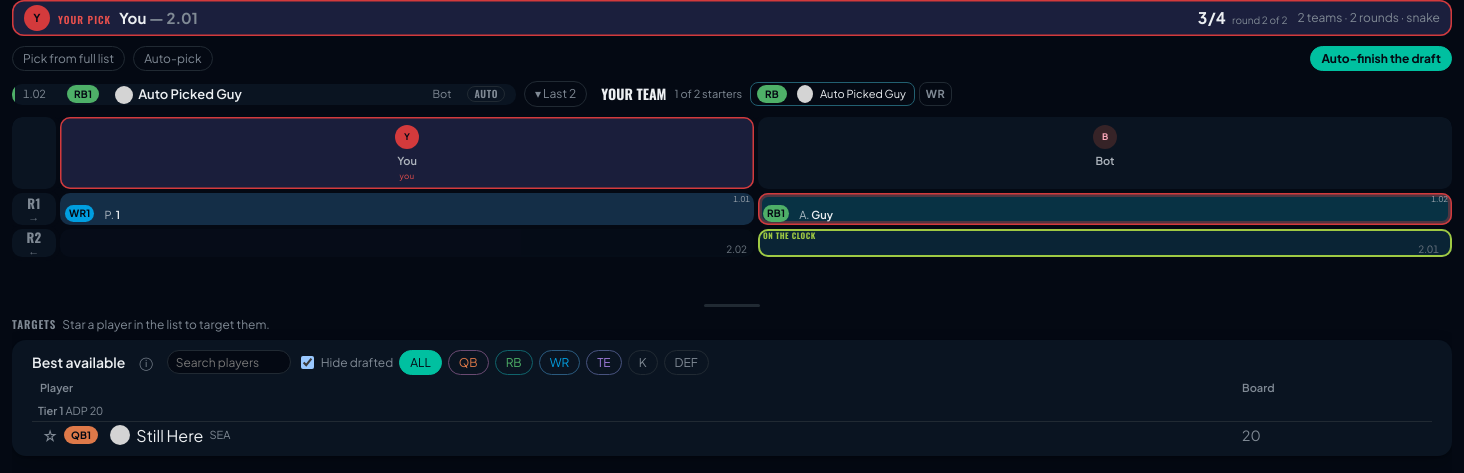
MockDraftView auto controls › hides both controls when an older backend answers 404
Click the button "Auto-pick" at (173, 59), box [133,46,212,71]
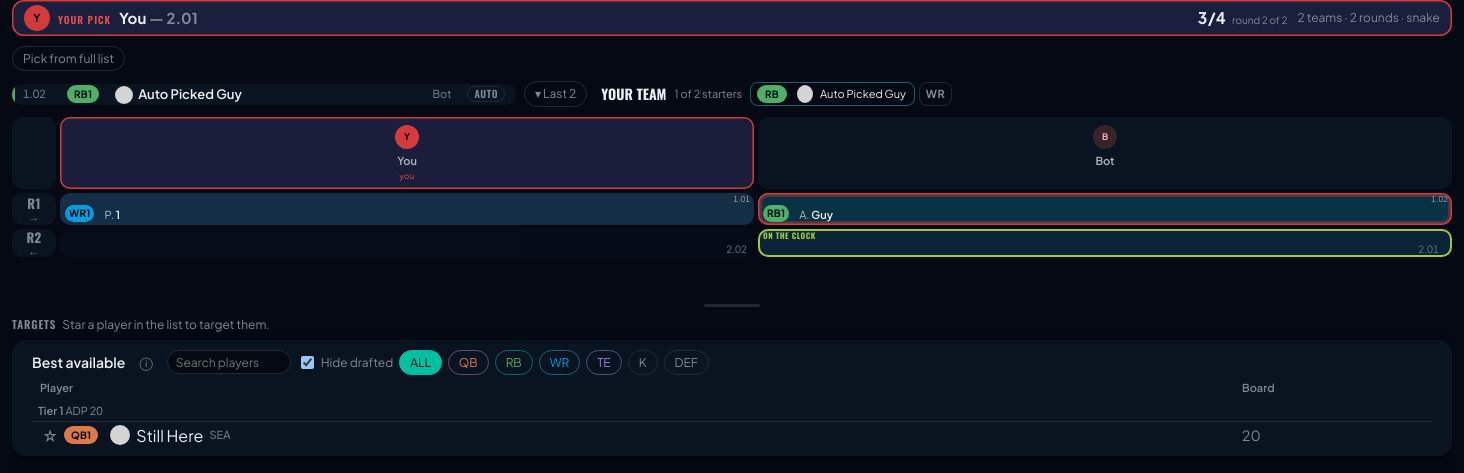
Expected: the button "Auto-finish the draft" is gone
Expected: the button "Auto-pick" is gone
